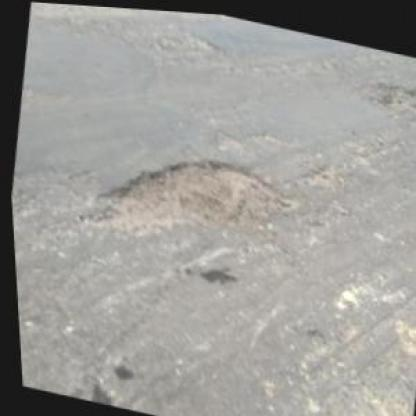pothole: (75, 126, 295, 268), (358, 68, 414, 121), (148, 21, 224, 58)
